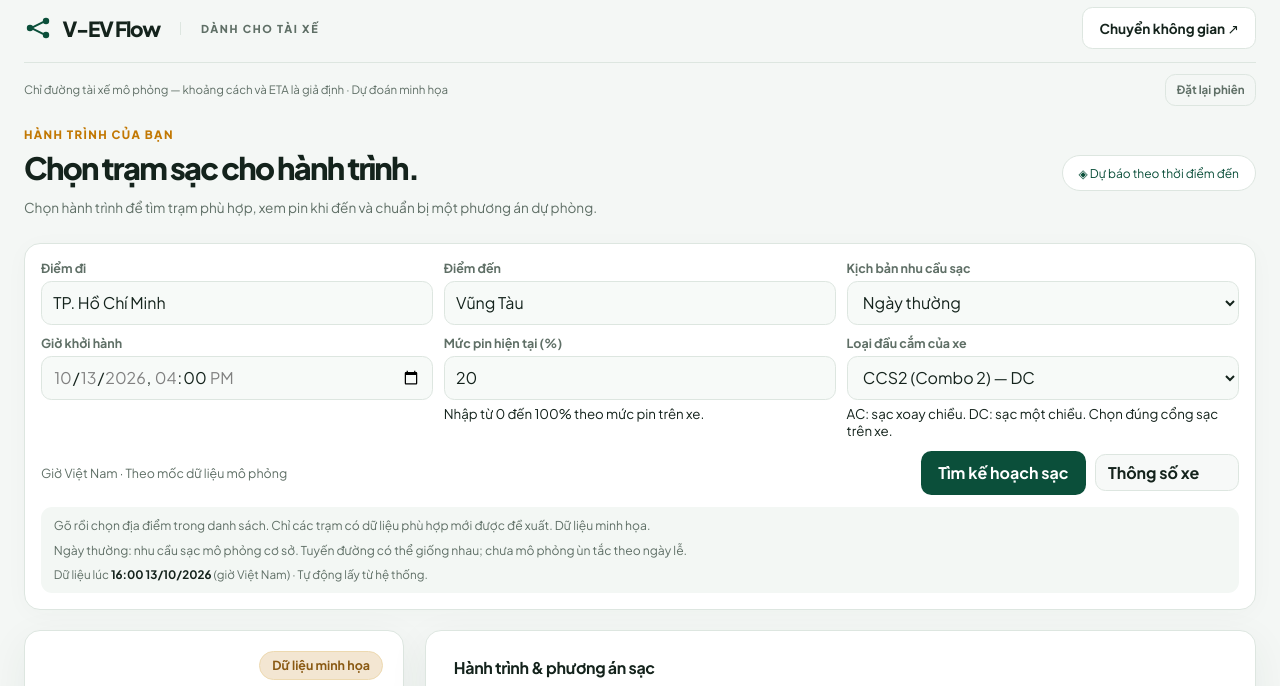
Test: successful reset clears the plan and restores idle without another recommend
Click the button "Tìm kế hoạch sạc" at (1003, 472), box top-left (921, 450), bottom-right (1086, 494)
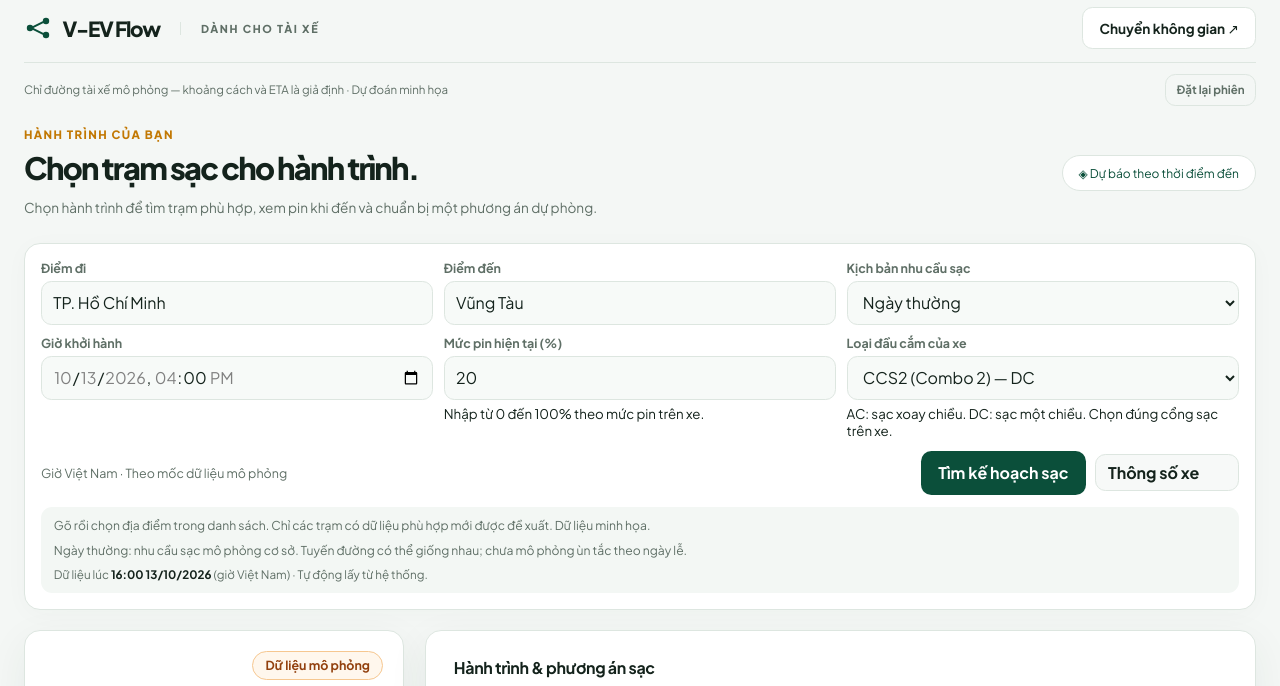
Click the button "Đặt lại phiên" at (1211, 90), box top-left (1165, 74), bottom-right (1256, 106)
(page scrolled)
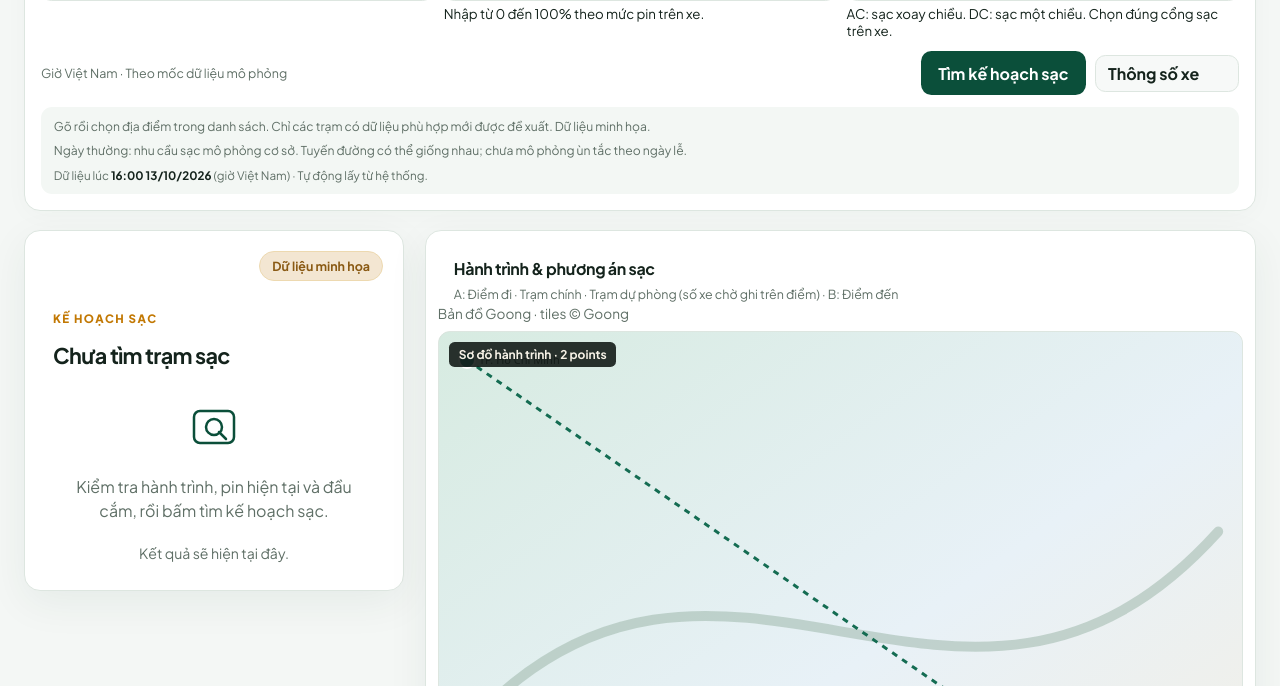
expect the heading "Chưa tìm trạm sạc" is shown: met, box top-left (53, 342), bottom-right (230, 369)
